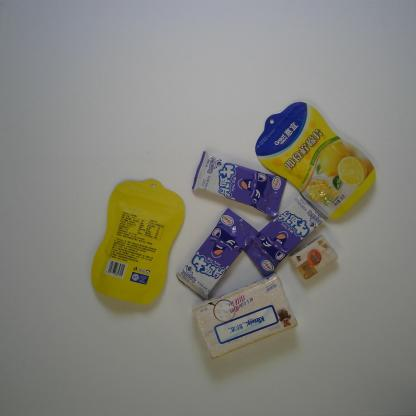Candy: (176, 207, 259, 300), (242, 194, 326, 276), (192, 150, 286, 217)
Dried Fruit: (254, 102, 378, 222), (90, 178, 186, 305)
Tissue: (192, 272, 299, 358), (288, 235, 338, 281)
